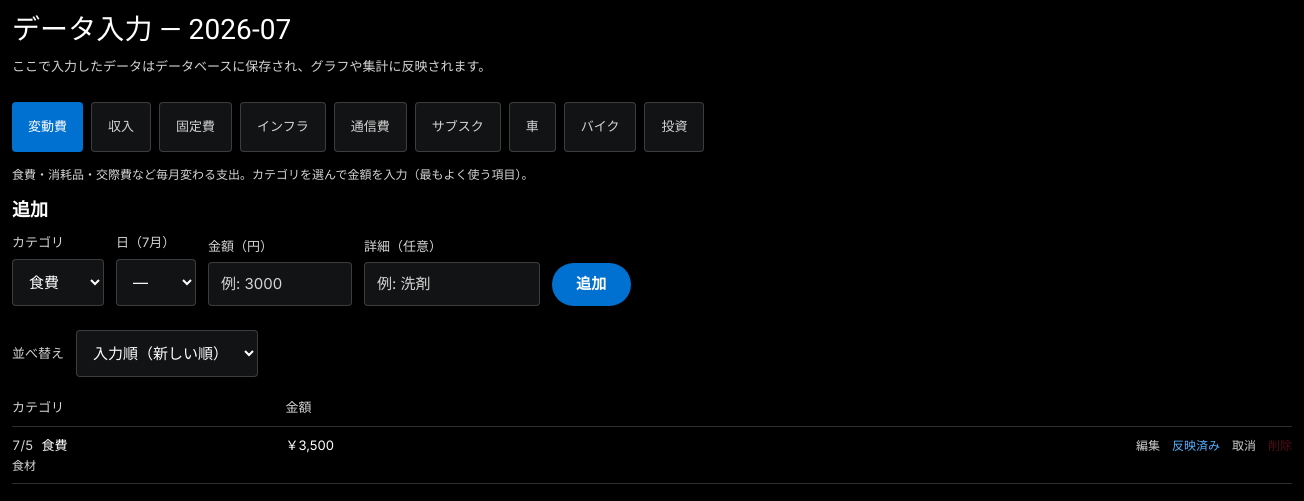
it: EntryTab - 割り勘アプリへの反映 › 取消を押すと反映が取り消され、再び反映できる状態に戻る
Click the button "取消". click: (1244, 445)
box: [1232, 436, 1256, 455]
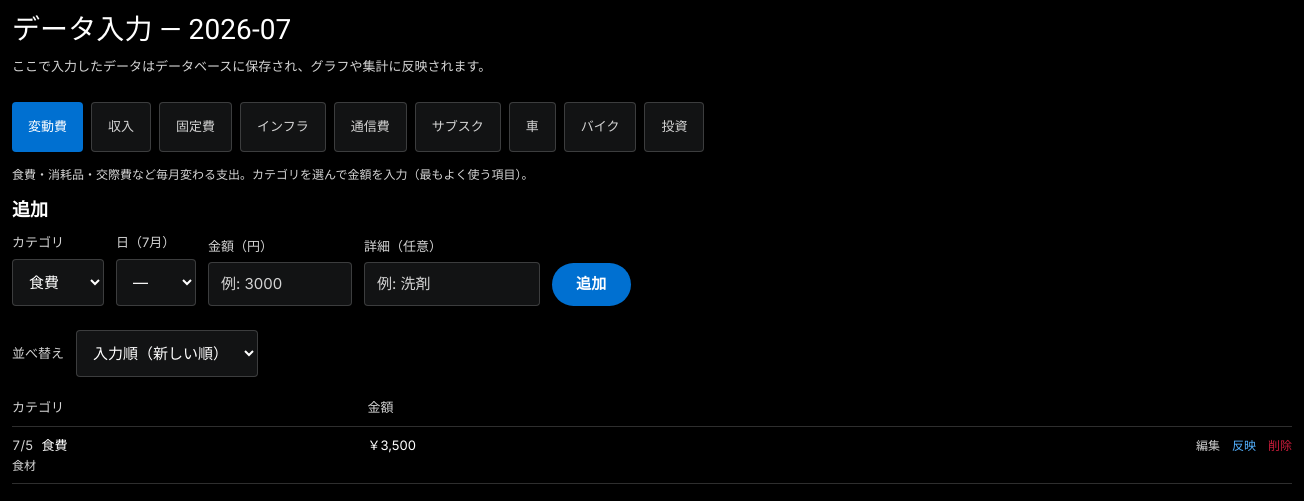
Expected: the button "削除" is enabled, [1268, 436, 1292, 455]
